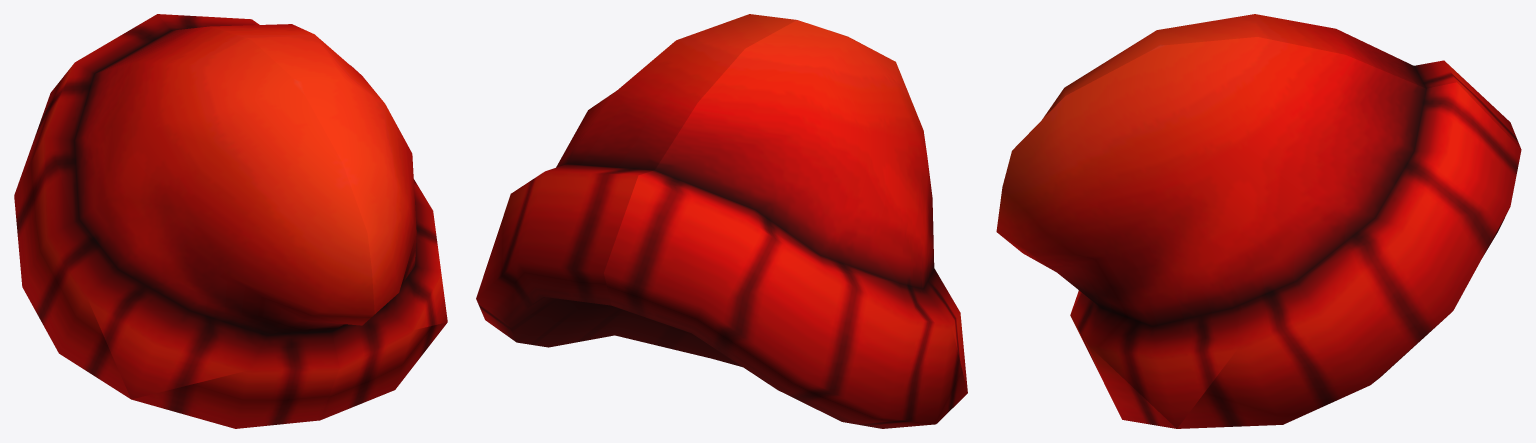
Rendered from unlocker_tricky.glb.
The picture shows the model from 3 angles, left to right: view 1: azimuth 30°, elevation 25°; view 2: azimuth 150°, elevation 25°; view 3: azimuth 270°, elevation 25°; orthographic projection. The views are drawn at different scales.
Parts seen in each view (by area): view 1: unlocker_tricky; view 2: unlocker_tricky; view 3: unlocker_tricky.
Boxes of the visible parts, <box> form: unlocker_tricky: <box>14,14,447,428</box>; unlocker_tricky: <box>476,14,967,428</box>; unlocker_tricky: <box>996,14,1521,428</box>.
Size of the model in its own units: 7.41 by 6.48 by 8.82.
Materials: 1 (1 with a texture image).
